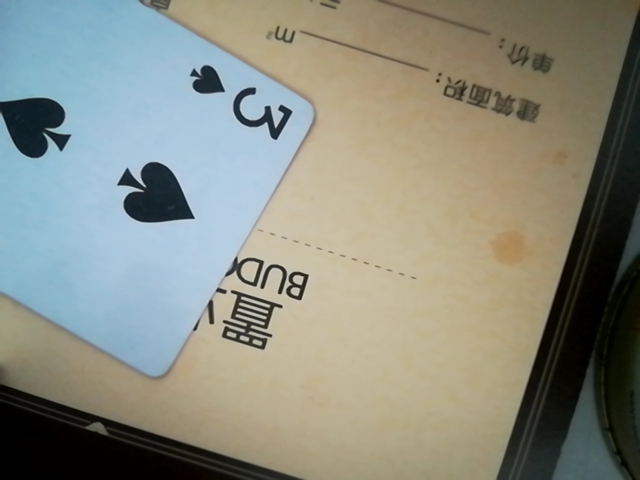ht 3: (0, 1, 318, 377)
